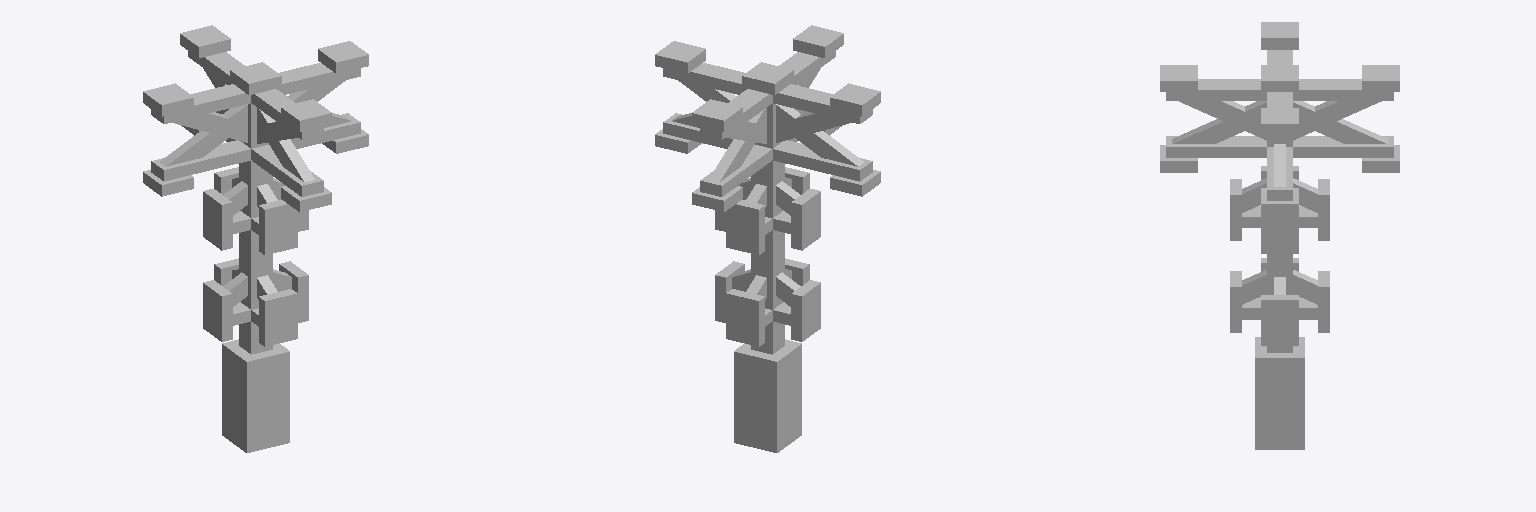
The model's file is woodenPost.obj.
3 views of the same model, side by side, from view 1: azimuth 30°, elevation 25°; view 2: azimuth 150°, elevation 25°; view 3: azimuth 270°, elevation 25° (orthographic).
Visible parts, largest first — view 1: base, arm_west_down, arm_west_up, arm_south_down, arm_east_up, arm_south_up, con_0_south, con_0_west, con_1_west, con_1_south, arm_north_up, arm_east_down (+1 smaller); view 2: base, arm_west_down, arm_west_up, arm_north_down, arm_east_up, arm_north_up, con_0_north, con_0_west, con_1_west, con_1_north, arm_south_up, arm_east_down (+1 smaller); view 3: base, arm_north_down, arm_south_up, arm_south_down, arm_north_up, con_0_east, arm_east_down, con_0_south, con_0_north, arm_east_up, con_1_south, con_1_north (+2 smaller).
Part boxes in pixels (left/top/right/bottom): base: left=222, top=62, right=289, bottom=452; arm_west_down: left=143, top=104, right=250, bottom=196; arm_west_up: left=143, top=83, right=250, bottom=142; arm_south_down: left=251, top=108, right=331, bottom=211; arm_east_up: left=277, top=41, right=368, bottom=102; arm_south_up: left=251, top=89, right=331, bottom=143; con_0_south: left=251, top=275, right=297, bottom=346; con_0_west: left=203, top=272, right=250, bottom=341; con_1_west: left=203, top=181, right=250, bottom=250; con_1_south: left=251, top=184, right=297, bottom=254; arm_north_up: left=180, top=25, right=244, bottom=109; arm_east_down: left=291, top=113, right=368, bottom=153; base: left=734, top=62, right=801, bottom=452; arm_west_down: left=773, top=104, right=880, bottom=196; arm_west_up: left=773, top=83, right=880, bottom=142; arm_north_down: left=692, top=108, right=772, bottom=211; arm_east_up: left=655, top=41, right=746, bottom=102; arm_north_up: left=692, top=89, right=772, bottom=143; con_0_north: left=726, top=275, right=772, bottom=346; con_0_west: left=773, top=272, right=820, bottom=341; con_1_west: left=773, top=181, right=820, bottom=250; con_1_north: left=726, top=184, right=772, bottom=254; arm_south_up: left=779, top=25, right=843, bottom=109; arm_east_down: left=655, top=113, right=732, bottom=153; base: left=1255, top=65, right=1304, bottom=449; arm_north_down: left=1293, top=101, right=1399, bottom=172; arm_south_up: left=1160, top=65, right=1266, bottom=140; arm_south_down: left=1160, top=101, right=1266, bottom=172; arm_north_up: left=1293, top=65, right=1399, bottom=140; con_0_east: left=1261, top=277, right=1298, bottom=345; arm_east_down: left=1261, top=144, right=1298, bottom=214; con_0_south: left=1230, top=270, right=1266, bottom=332; con_0_north: left=1293, top=270, right=1329, bottom=332; arm_east_up: left=1261, top=92, right=1298, bottom=143; con_1_south: left=1230, top=178, right=1266, bottom=240; con_1_north: left=1293, top=178, right=1329, bottom=240.
Bounding box in the file's own units: 2.38 × 4 × 2.38.